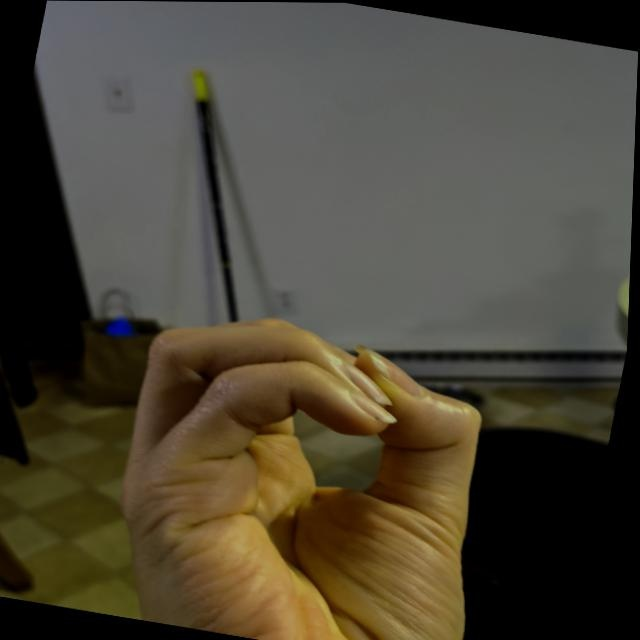O: (91, 292, 546, 639)
